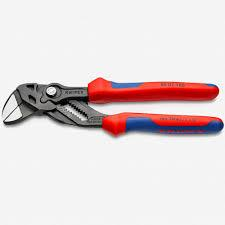pliers: (0, 76, 223, 136)
